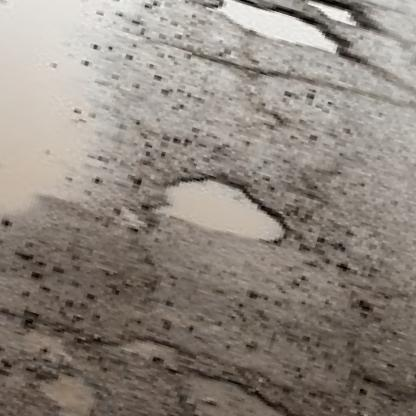pothole: (150, 160, 301, 256), (202, 0, 369, 68), (287, 0, 372, 34)
